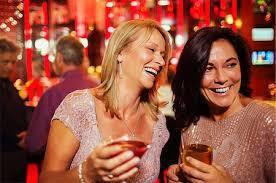Drunk: (200, 38, 243, 106), (135, 27, 165, 89)
